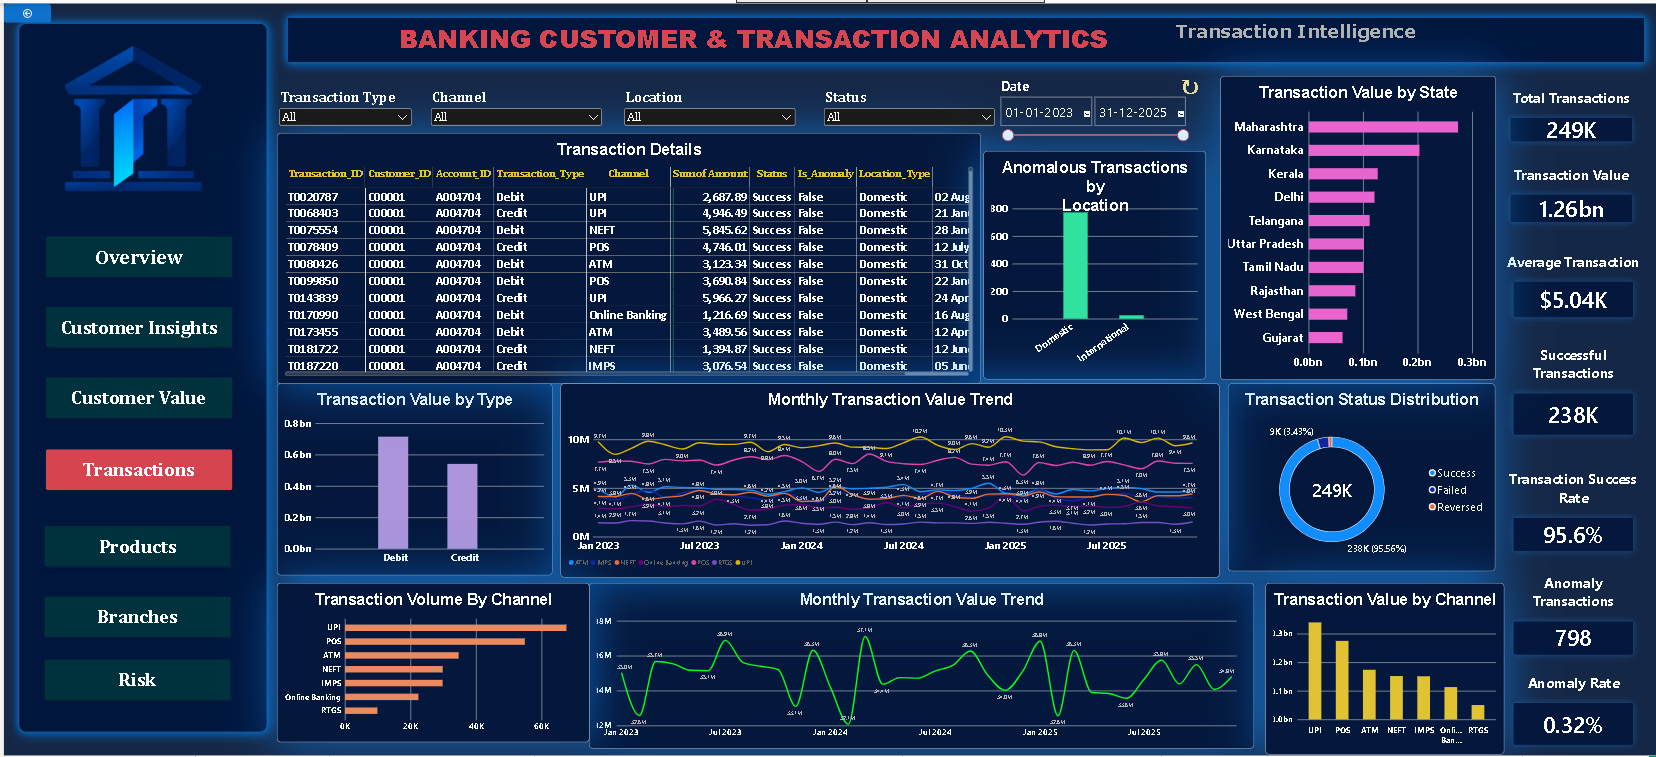

This screenshot's page, from the dashboard's own definition file:
{"tool":"powerbi","page":{"name":"Transaction Intelligence","canvas":[3520,1600],"ordinal":3},"visuals":[{"type":"cardVisual","title":"Average Transaction","fields":{"Data":["Fact_Transactions.Average Transaction Amount"]},"box":[3191.5,525.4,295.3,160.7],"z":0},{"type":"lineChart","title":"Monthly Transaction Value Trend","fields":{"Category":["Dim_Date.Month_Year.Variation.Date Hierarchy.Year","Dim_Date.Month_Year.Variation.Date Hierarchy.Quarter","Dim_Date.Month_Year.Variation.Date Hierarchy.Month","Dim_Date.Month_Year.Variation.Date Hierarchy.Day"],"Y":["Fact_Transactions.Total Transaction Amount"]},"box":[1246.2,1233.2,1415.5,351.7],"z":1000},{"type":"clusteredColumnChart","title":"Transaction Value by Type","fields":{"Category":["Fact_Transactions.Transaction_Type"],"Y":["Fact_Transactions.Total Transaction Amount"]},"box":[581.8,807.6,586.2,408.2],"z":2000},{"type":"donutChart","title":"Transaction Status Distribution","fields":{"Category":["Fact_Transactions.Status"],"Y":["Fact_Transactions.Total Transactions"]},"box":[2605.3,807.6,568.8,399.5],"z":3000},{"type":"shape","box":[5,15,578.8,1558.8],"z":4000},{"type":"shape","box":[578.6,3.6,2939.3,146.4],"z":5000},{"type":"textbox","box":[839.3,35.7,2175,82.1],"z":6000},{"type":"textbox","box":[2492.4,34.7,581.8,86.8],"z":7000},{"type":"image","box":[75,78.6,403.6,335.7],"z":8000},{"type":"cardVisual","title":"Transaction Value","fields":{"Data":["Fact_Transactions.Total Transaction Amount"]},"box":[3187.1,343,299.6,143.3],"z":9000},{"type":"cardVisual","title":"Transaction Success Rate","fields":{"Data":["Fact_Transactions.Transaction Success Rate %"]},"box":[3191.5,990,295.3,195.4],"z":10000},{"type":"cardVisual","title":"Total Transactions","fields":{"Data":["Fact_Transactions.Total Transactions"]},"box":[3187.1,178,299.6,134.6],"z":11000},{"type":"cardVisual","title":"Successful Transactions","fields":{"Data":["Fact_Transactions.Successful Transactions"]},"box":[3191.5,725.1,295.3,212.8],"z":12000},{"type":"slicer","title":"Choose Date Between","fields":{"Values":["Dim_Date.Date"]},"box":[2114.6,156.3,412.5,247.5],"z":13000},{"type":"actionButton","box":[2492.4,138.9,60.8,78.2],"z":14000},{"type":"actionButton","title":"OVERVIEW","box":[80,485,415,105],"z":15000},{"type":"actionButton","title":"OVERVIEW","box":[80,635,415,105],"z":16000},{"type":"actionButton","title":"OVERVIEW","box":[80,785,415,105],"z":17000},{"type":"actionButton","title":"OVERVIEW","box":[80,940,415,105],"z":18000},{"type":"actionButton","title":"OVERVIEW","box":[78.2,1102.9,415,105],"z":19000},{"type":"tableEx","title":"Transaction Details","fields":{"Values":["Fact_Transactions.Transaction_ID","Dim_Customers.Customer_ID","Fact_Transactions.Account_ID","Fact_Transactions.Transaction_Type","Fact_Transactions.Channel","Sum(Fact_Transactions.Amount)","Fact_Transactions.Status","Fact_Transactions.Is_Anomaly","Fact_Transactions.Location_Type","Fact_Transactions.Date"]},"box":[581.8,273.6,1498,534.1],"z":20000},{"type":"actionButton","box":[0,0,100,40],"z":21000},{"type":"slicer","fields":{"Values":["Fact_Transactions.Location_Type"]},"box":[1315.7,178,373.4,134.6],"z":22000},{"type":"slicer","fields":{"Values":["Fact_Transactions.Transaction_Type"]},"box":[581.8,178,290.9,134.6],"z":23000},{"type":"slicer","fields":{"Values":["Fact_Transactions.Channel"]},"box":[903.2,178,373.4,134.6],"z":24000},{"type":"slicer","fields":{"Values":["Fact_Loans.Status"]},"box":[1741.2,178,373.4,134.6],"z":25000},{"type":"actionButton","title":"OVERVIEW","box":[78.2,1250.5,415,105],"z":26000},{"type":"actionButton","title":"OVERVIEW","box":[78.2,1385.1,415,105],"z":27000},{"type":"clusteredColumnChart","title":"Transaction Value by Channel","fields":{"Category":["Fact_Transactions.Channel"],"Y":["Fact_Transactions.Total Transaction Amount"]},"box":[2683.5,1233.2,508,364.7],"z":28000},{"type":"cardVisual","title":"Anomaly Transactions","fields":{"Data":["Fact_Transactions.Anomaly Transactions"]},"box":[3191.5,1211.5,295.3,195.4],"z":29000},{"type":"cardVisual","title":"Anomaly Rate","fields":{"Data":["Fact_Transactions.Anomaly Rate %"]},"box":[3191.5,1424.2,295.3,173.7],"z":30000},{"type":"clusteredColumnChart","title":"Anomalous Transactions by Location","fields":{"Category":["Fact_Transactions.Location_Type"],"Y":["Fact_Transactions.Anomaly Transactions"]},"box":[2084.2,312.6,473.3,486.3],"z":31000},{"type":"lineChart","title":"Monthly Transaction Value Trend","fields":{"Category":["Dim_Date.Month_Year.Variation.Date Hierarchy.Year","Dim_Date.Month_Year.Variation.Date Hierarchy.Quarter","Dim_Date.Month_Year.Variation.Date Hierarchy.Month","Dim_Date.Month_Year.Variation.Date Hierarchy.Day"],"Series":["Fact_Transactions.Channel"],"Y":["Fact_Transactions.Total Transaction Amount"]},"box":[1185.4,807.6,1402.5,412.5],"z":32000},{"type":"clusteredBarChart","title":"Transaction Value by State","fields":{"Category":["Dim_Branches.State"],"Y":["Fact_Transactions.Total Transaction Amount"]},"box":[2587.9,152,586.2,647],"z":33000},{"type":"clusteredBarChart","title":"Transaction Volume By Channel","fields":{"Category":["Fact_Transactions.Channel"],"Y":["Fact_Transactions.Total Transactions"]},"box":[581.8,1233.2,664.4,338.7],"z":34000}]}

Visuals, with their boxes on the page's 3520x1600 design canvas (x1, y1, x2, y2). These are canvas units, not pixel positions in the 1656x757 screenshot, which may show the page scaled, cropped or inside an application window:
"Average Transaction" cardVisual: [left=3192, top=525, right=3487, bottom=686]
"Monthly Transaction Value Trend" lineChart: [left=1246, top=1233, right=2662, bottom=1585]
"Transaction Value by Type" clusteredColumnChart: [left=582, top=808, right=1168, bottom=1216]
"Transaction Status Distribution" donutChart: [left=2605, top=808, right=3174, bottom=1207]
shape: [left=5, top=15, right=584, bottom=1574]
shape: [left=579, top=4, right=3518, bottom=150]
textbox: [left=839, top=36, right=3014, bottom=118]
textbox: [left=2492, top=35, right=3074, bottom=122]
image: [left=75, top=79, right=479, bottom=414]
"Transaction Value" cardVisual: [left=3187, top=343, right=3487, bottom=486]
"Transaction Success Rate" cardVisual: [left=3192, top=990, right=3487, bottom=1185]
"Total Transactions" cardVisual: [left=3187, top=178, right=3487, bottom=313]
"Successful Transactions" cardVisual: [left=3192, top=725, right=3487, bottom=938]
"Choose Date Between" slicer: [left=2115, top=156, right=2527, bottom=404]
actionButton: [left=2492, top=139, right=2553, bottom=217]
"OVERVIEW" actionButton: [left=80, top=485, right=495, bottom=590]
"OVERVIEW" actionButton: [left=80, top=635, right=495, bottom=740]
"OVERVIEW" actionButton: [left=80, top=785, right=495, bottom=890]
"OVERVIEW" actionButton: [left=80, top=940, right=495, bottom=1045]
"OVERVIEW" actionButton: [left=78, top=1103, right=493, bottom=1208]
"Transaction Details" tableEx: [left=582, top=274, right=2080, bottom=808]
actionButton: [left=0, top=0, right=100, bottom=40]
slicer - Fact_Transactions.Location_Type: [left=1316, top=178, right=1689, bottom=313]
slicer - Fact_Transactions.Transaction_Type: [left=582, top=178, right=873, bottom=313]
slicer - Fact_Transactions.Channel: [left=903, top=178, right=1277, bottom=313]
slicer - Fact_Loans.Status: [left=1741, top=178, right=2115, bottom=313]
"OVERVIEW" actionButton: [left=78, top=1250, right=493, bottom=1356]
"OVERVIEW" actionButton: [left=78, top=1385, right=493, bottom=1490]
"Transaction Value by Channel" clusteredColumnChart: [left=2684, top=1233, right=3192, bottom=1598]
"Anomaly Transactions" cardVisual: [left=3192, top=1212, right=3487, bottom=1407]
"Anomaly Rate" cardVisual: [left=3192, top=1424, right=3487, bottom=1598]
"Anomalous Transactions by Location" clusteredColumnChart: [left=2084, top=313, right=2558, bottom=799]
"Monthly Transaction Value Trend" lineChart: [left=1185, top=808, right=2588, bottom=1220]
"Transaction Value by State" clusteredBarChart: [left=2588, top=152, right=3174, bottom=799]
"Transaction Volume By Channel" clusteredBarChart: [left=582, top=1233, right=1246, bottom=1572]
